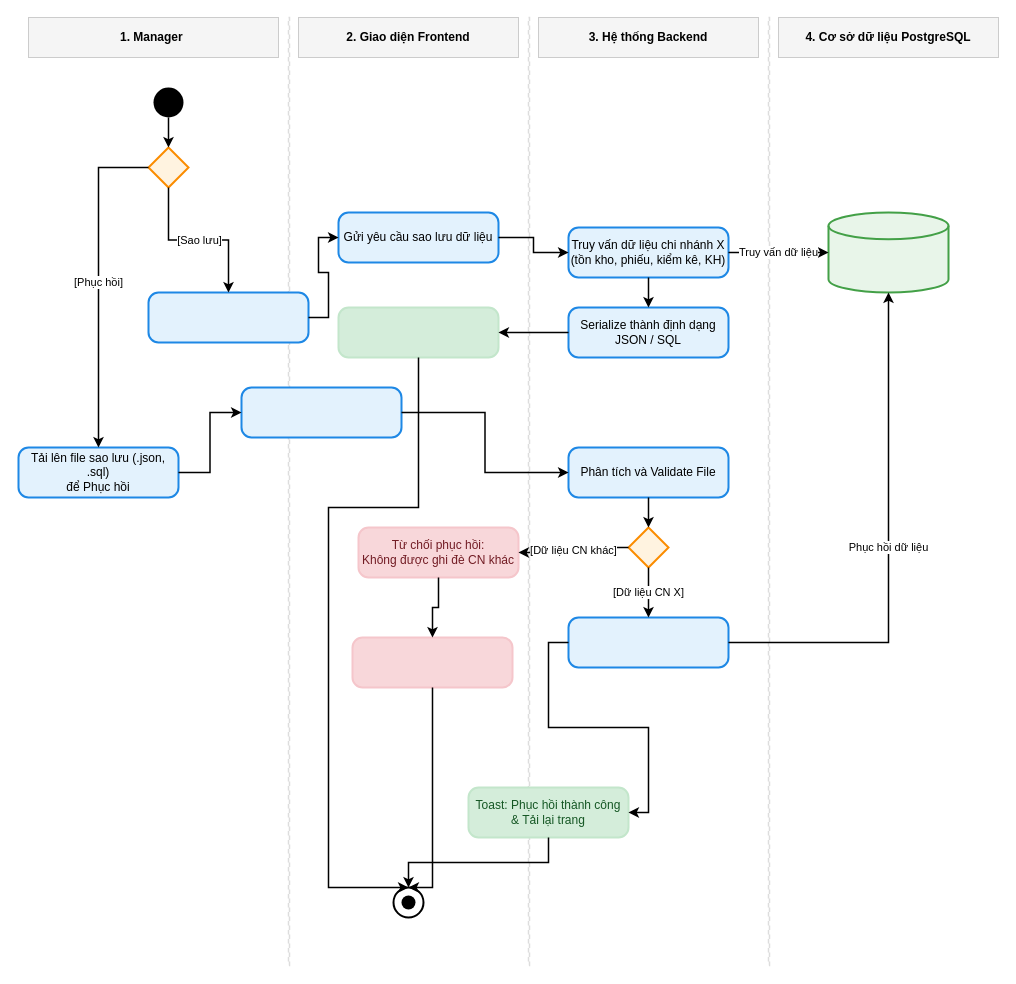
The diagram is 1016 pixels wide and 984 high, and some of its shapes have lost their labels. The centre of each missing label's shape, as x and y in pixels:
"Chọn chức năng Sao lưu" goes at (228,317).
"Hiển thị thông báo lỗi" goes at (432,662).
"Nhận File và kích hoạt tải xuống qua trình duyệt" goes at (418,332).
"Nạp dữ liệu vào DB trong 1 transaction bảo mật" goes at (648,642).
"Toàn bộ Bảng Dữ liệu" goes at (888,252).
"Upload file lên hệ thống Backend" goes at (321,412).
